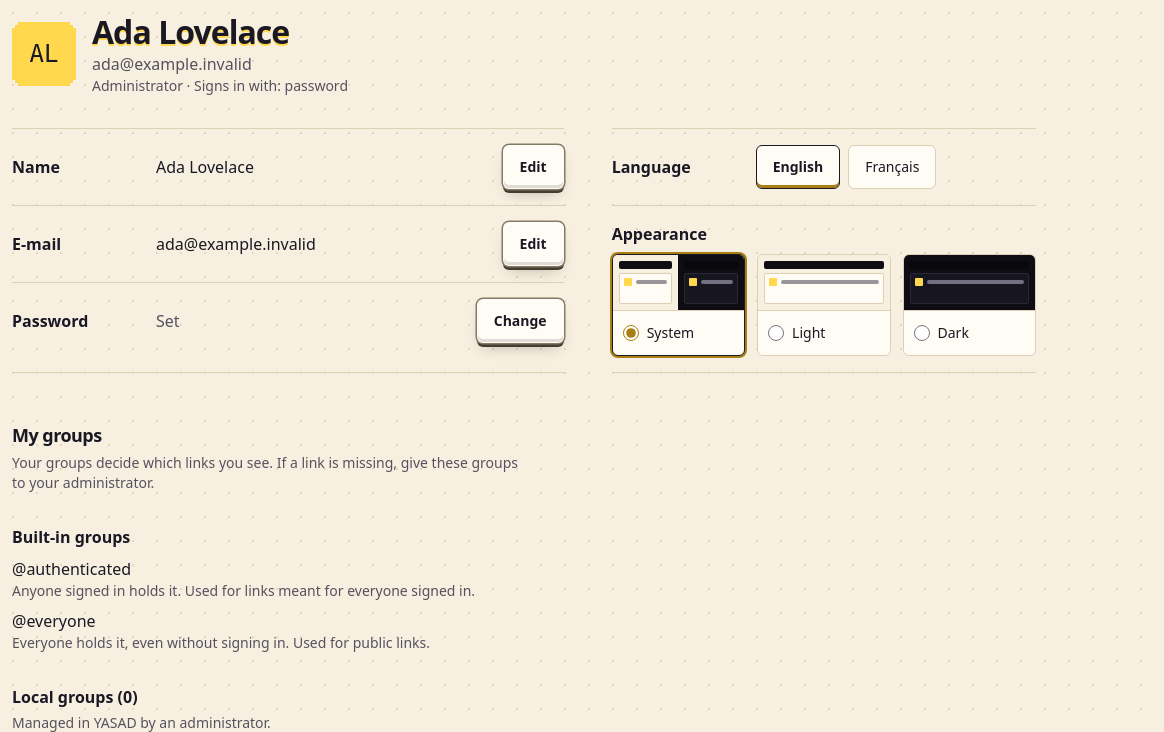
Test: Account › opens the password form in its row on its first field, and gives the focus back on Escape
Click the button with aria-label "Change password" at (520, 321), box [477,299,564,343]
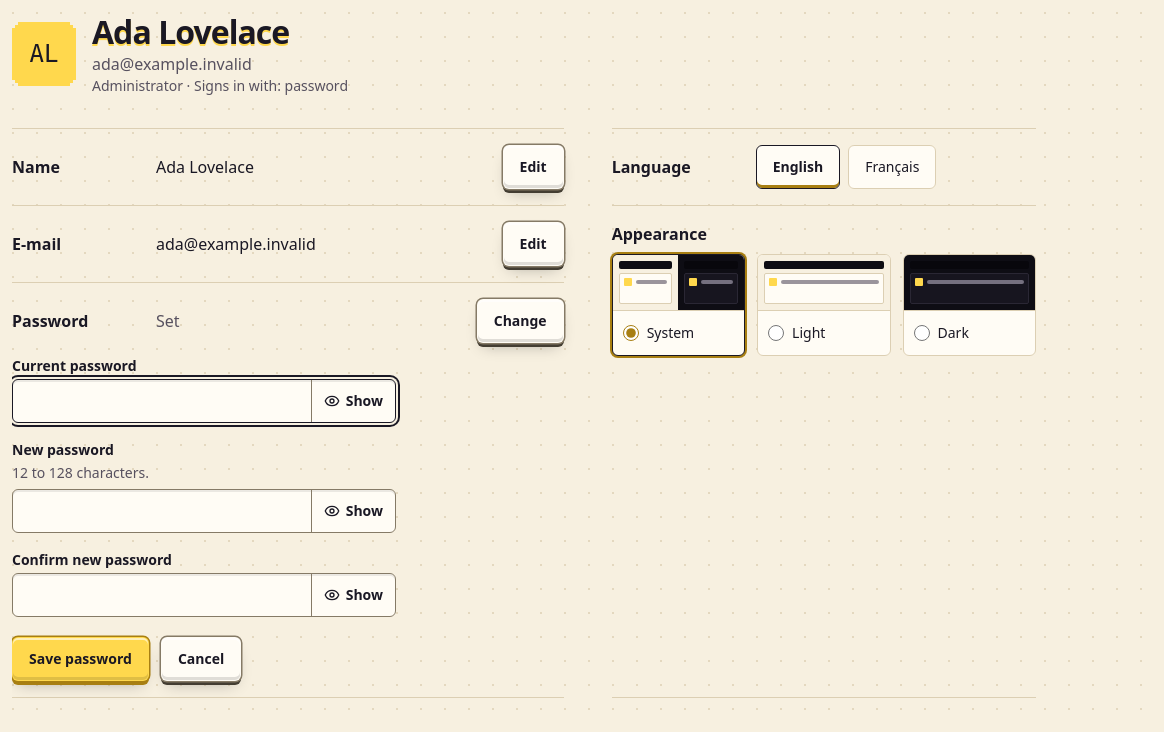
Press Escape
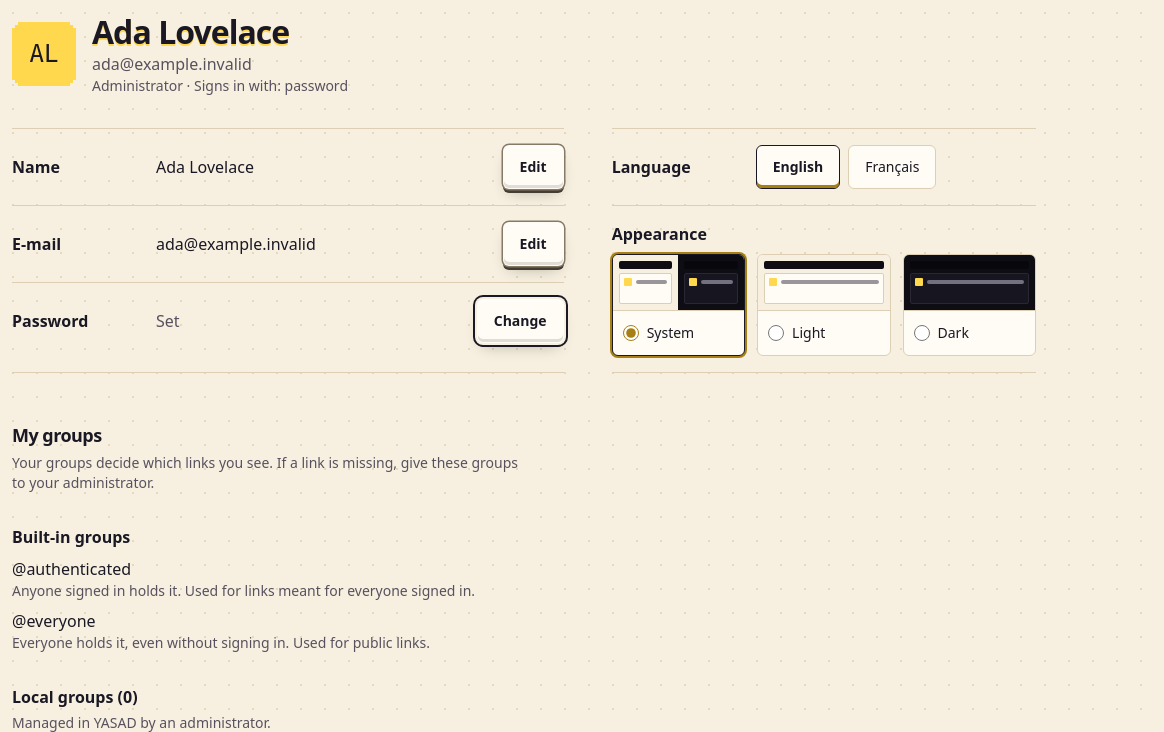
Result: the label labelled "Current password" is gone
